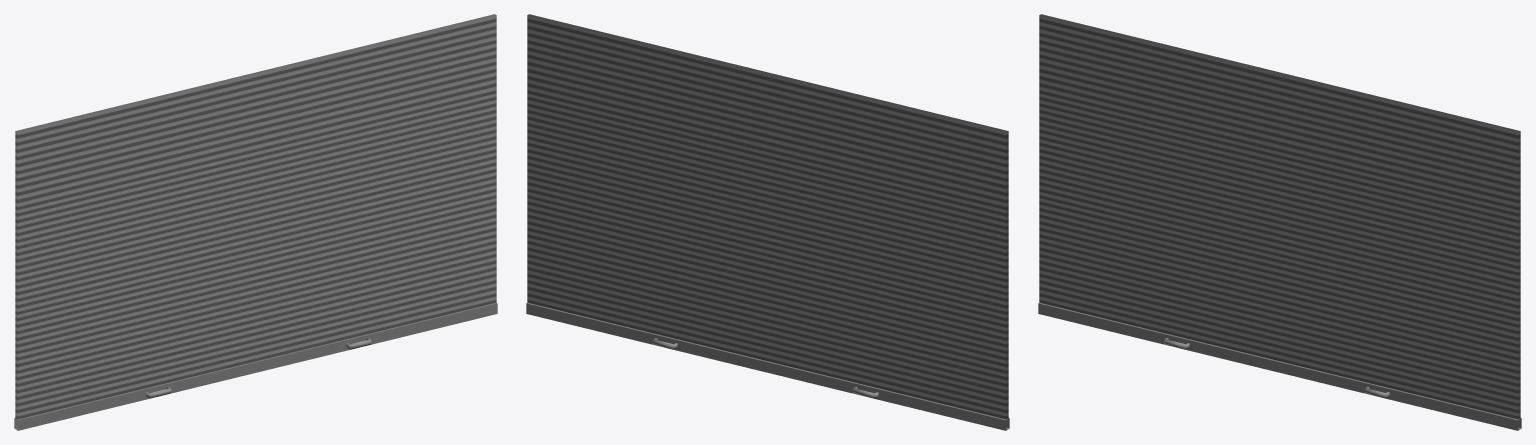
Rendered from SW_ENV_StreetEntrance_03_Gate.fbx.
3 renders of one model, left to right at view 1: azimuth 30°, elevation 25°; view 2: azimuth 150°, elevation 25°; view 3: azimuth 330°, elevation 25°, orthographic.
Visible parts, largest first — view 1: SW_ENV_StreetEntrance_03_Gate; view 2: SW_ENV_StreetEntrance_03_Gate; view 3: SW_ENV_StreetEntrance_03_Gate.
Boxes of the visible parts, x1,y1,x2,y2 form: SW_ENV_StreetEntrance_03_Gate: (14, 14, 497, 430); SW_ENV_StreetEntrance_03_Gate: (526, 14, 1009, 430); SW_ENV_StreetEntrance_03_Gate: (1038, 14, 1521, 430).
Size of the model in its own units: 4.8 by 2.85 by 0.172.
